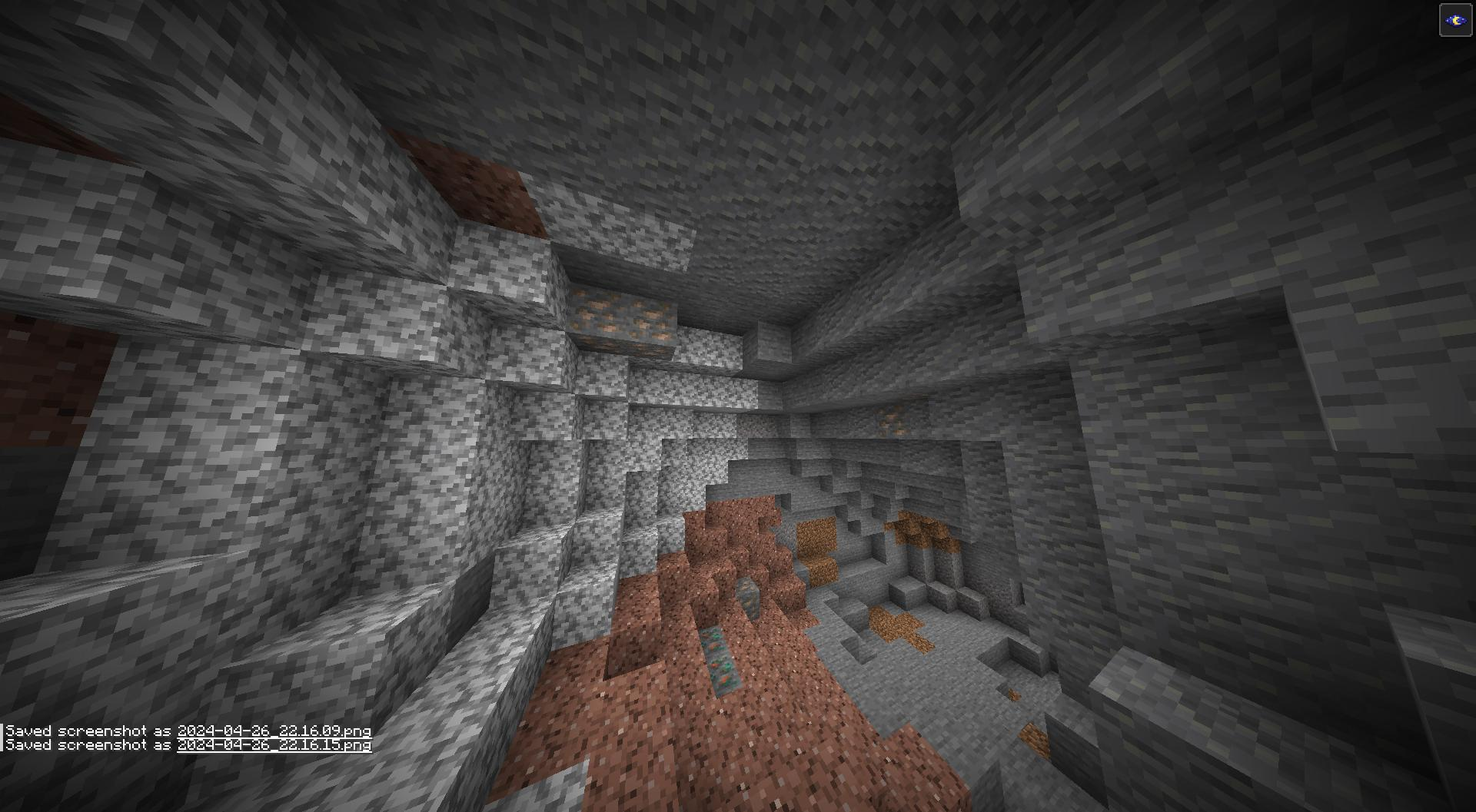iron ore: (625, 293, 678, 345), (572, 289, 626, 334), (877, 403, 916, 439)
